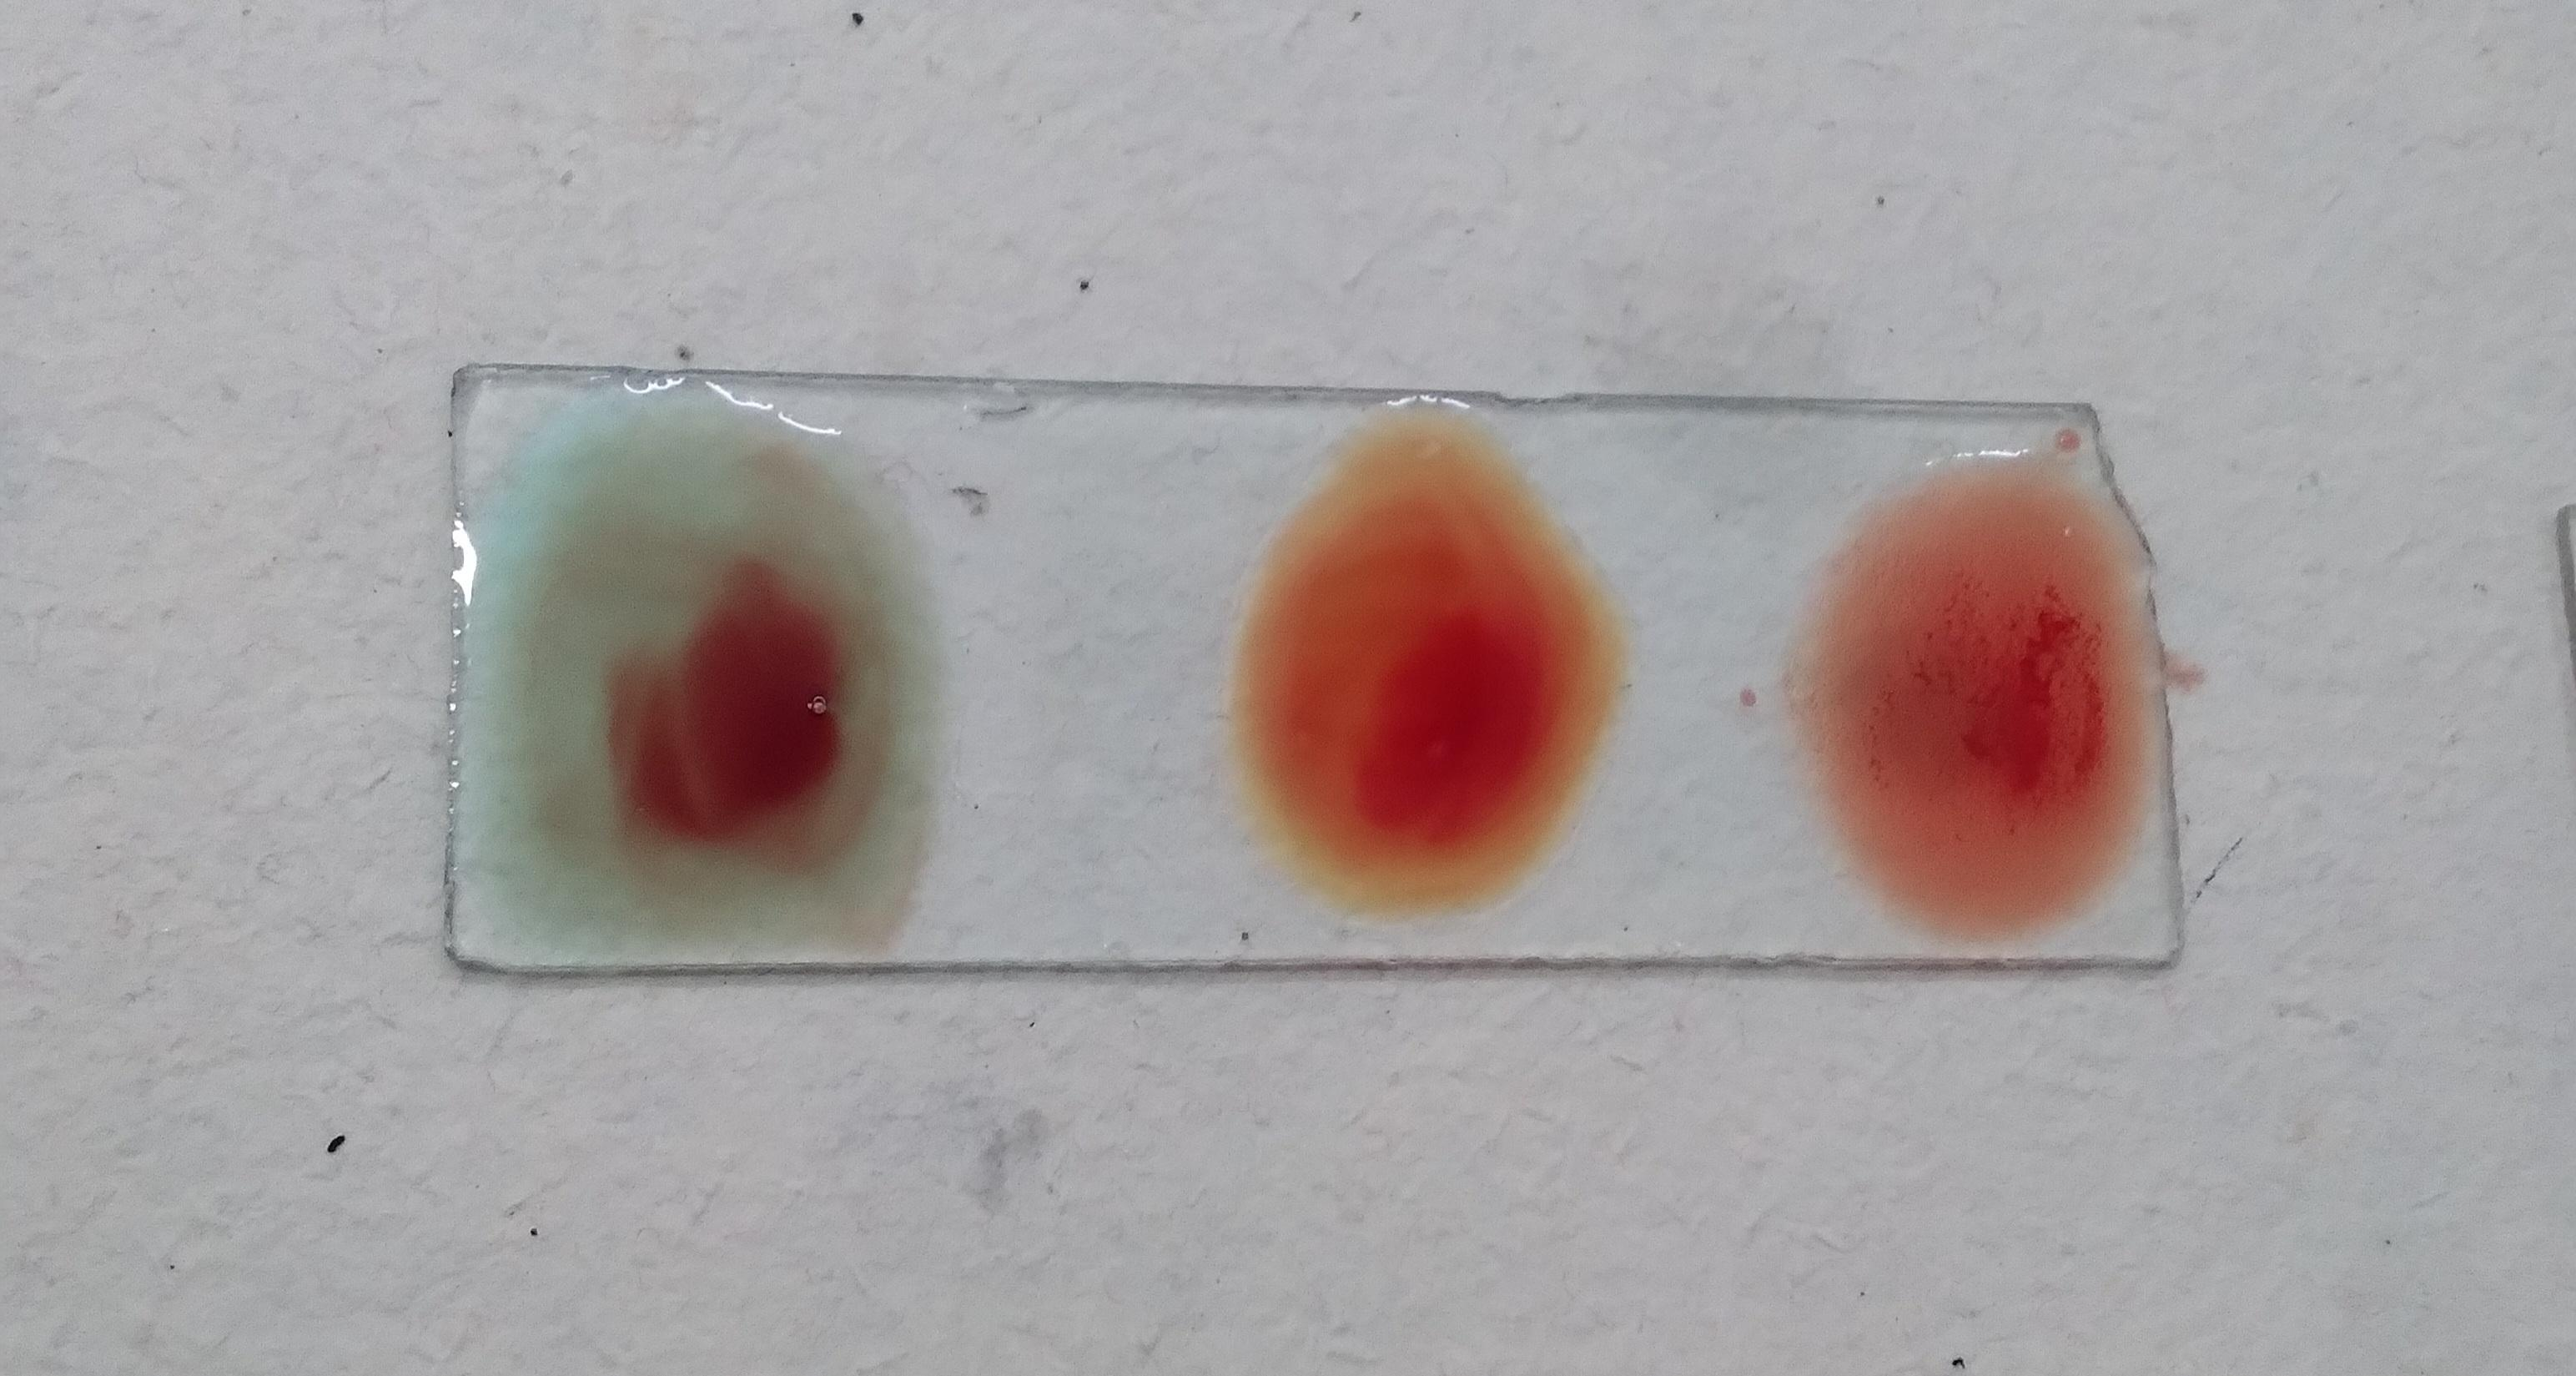D: (1833, 501, 2157, 941)
